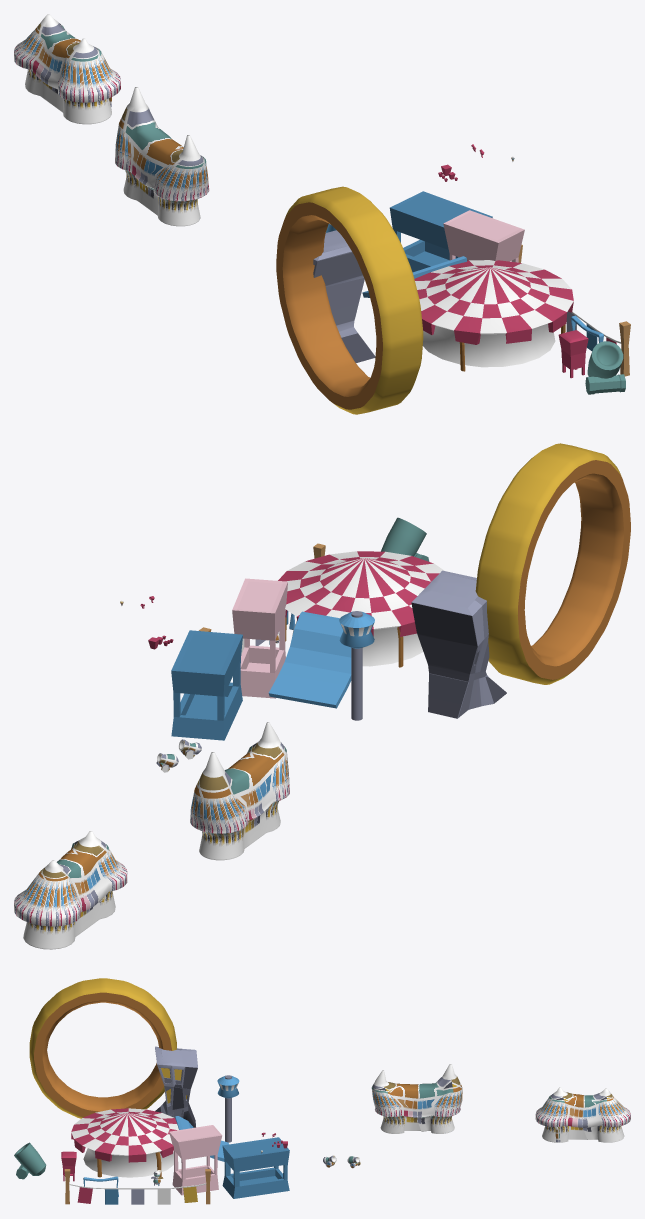
File: circus.fbx
3 views of the same model, one above another, from view 1: azimuth 30°, elevation 25°; view 2: azimuth 150°, elevation 25°; view 3: azimuth 270°, elevation 25° (orthographic). The views are drawn at different scales.
Parts seen in each view (by area): view 1: polySurface30, polySurface94, polySurface32, polySurface78, pCube2, polySurface72, polySurface70, polySurface54, polySurface40, pCube9; view 2: polySurface30, polySurface94, pCube2, polySurface32, polySurface78, polySurface72, polySurface88, polySurface70, polySurface54, polySurface65, pCylinder2; view 3: polySurface30, polySurface94, polySurface32, polySurface78, polySurface72, polySurface70, pCube2, pCube9, polySurface54, polySurface65, pCylinder2, polySurface40.
Part boxes in pixels (x1,y1,x2,y2): polySurface30: (276, 186, 423, 414); polySurface94: (414, 260, 573, 371); polySurface32: (115, 87, 209, 226); polySurface78: (14, 14, 120, 124); pCube2: (313, 230, 375, 362); polySurface72: (389, 191, 492, 272); polySurface70: (443, 210, 524, 262); polySurface54: (585, 341, 625, 394); polySurface40: (558, 330, 588, 378); pCube9: (518, 244, 630, 376); polySurface30: (475, 443, 630, 684); polySurface94: (278, 551, 444, 667); pCube2: (411, 570, 506, 718); polySurface32: (190, 722, 289, 860); polySurface78: (14, 831, 127, 949); polySurface72: (171, 630, 242, 740); polySurface88: (268, 611, 351, 708); polySurface70: (232, 578, 287, 698); polySurface54: (381, 517, 429, 561); polySurface65: (339, 611, 374, 648); pCylinder2: (351, 611, 362, 720); polySurface30: (29, 978, 176, 1118); polySurface94: (71, 1108, 178, 1177); polySurface32: (371, 1064, 462, 1133); polySurface78: (535, 1087, 630, 1142); polySurface72: (222, 1137, 289, 1198); polySurface70: (169, 1125, 222, 1195); pCube2: (155, 1046, 197, 1127); pCube9: (64, 1169, 210, 1204); polySurface54: (14, 1142, 46, 1179); polySurface65: (217, 1075, 239, 1098); pCylinder2: (225, 1075, 231, 1142); polySurface40: (61, 1151, 76, 1181).
Size of the model in its own units: 66.38 by 45 by 177.
